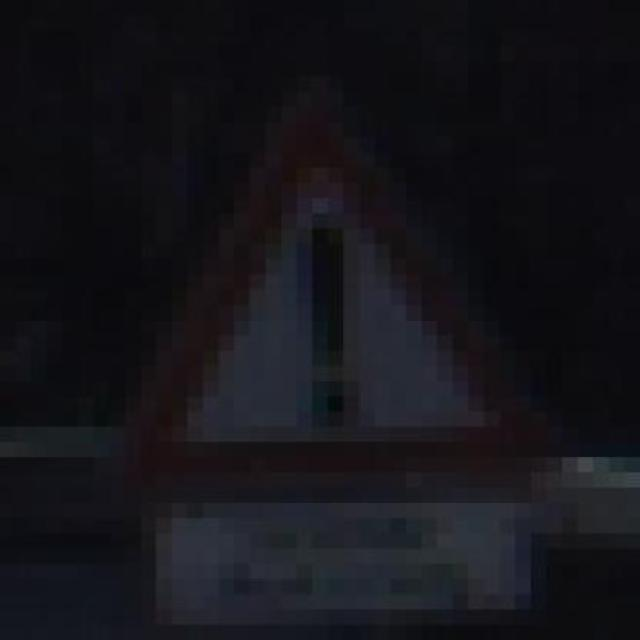Attention Please-: (109, 61, 531, 488)
